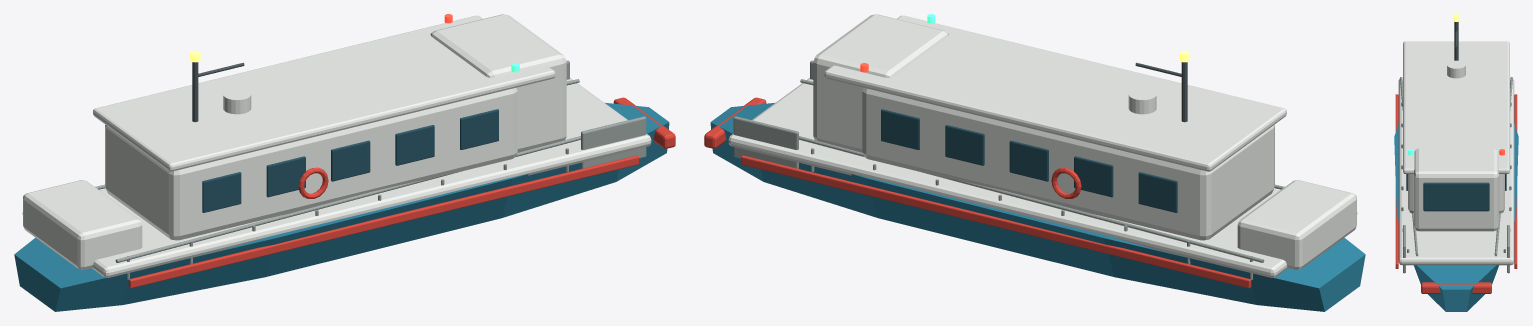
Rendered from transport-passenger-ferry-lod2.glb.
The picture shows the model from 3 angles, left to right: view 1: azimuth 30°, elevation 25°; view 2: azimuth 150°, elevation 25°; view 3: azimuth 270°, elevation 25°; orthographic projection. The views are drawn at different scales.
Visible parts, largest first — view 1: Cabin roof.001, Open passenger cabin.001, Ferry hull.001, Passenger deck.001, Wheelhouse.001, Stern engine casing.001, Hull safety stripe.002, Boarding gate starboard, Passenger deck rail.002, Cabin side window.008, Cabin side window.006, Cabin side window.009 (+5 smaller); view 2: Cabin roof.001, Open passenger cabin.001, Ferry hull.001, Passenger deck.001, Wheelhouse.001, Stern engine casing.001, Hull safety stripe.003, Boarding gate port, Passenger deck rail.003, Cabin side window.013, Cabin side window.011, Cabin side window.014 (+5 smaller); view 3: Cabin roof.001, Passenger deck.001, Wheelhouse.001, Ferry hull.001, Cabin front window.001, Bow bumper.001, Open passenger cabin.001, Hull safety stripe.002, Hull safety stripe.003, Radar dome, Passenger deck rail.002, Passenger deck rail.003 (+3 smaller).
Boxes of the visible parts, x1,y1,x2,y2 form: Cabin roof.001: [93, 15, 555, 171]; Open passenger cabin.001: [105, 88, 517, 240]; Ferry hull.001: [14, 103, 669, 311]; Passenger deck.001: [22, 78, 651, 277]; Wheelhouse.001: [430, 14, 566, 152]; Stern engine casing.001: [23, 180, 142, 269]; Hull safety stripe.002: [128, 155, 638, 288]; Boarding gate starboard: [581, 116, 646, 168]; Passenger deck rail.002: [115, 136, 580, 262]; Cabin side window.008: [331, 140, 370, 181]; Cabin side window.006: [202, 172, 241, 212]; Cabin side window.009: [395, 125, 434, 165]; Cabin roof.001: [824, 15, 1286, 171]; Open passenger cabin.001: [862, 88, 1274, 240]; Ferry hull.001: [710, 103, 1365, 311]; Passenger deck.001: [728, 78, 1357, 277]; Wheelhouse.001: [813, 14, 949, 152]; Stern engine casing.001: [1237, 180, 1356, 269]; Hull safety stripe.003: [741, 155, 1251, 288]; Boarding gate port: [733, 116, 798, 168]; Passenger deck rail.003: [799, 136, 1264, 262]; Cabin side window.013: [1009, 140, 1048, 181]; Cabin side window.011: [1138, 172, 1177, 212]; Cabin side window.014: [945, 125, 984, 165]; Cabin roof.001: [1403, 41, 1509, 173]; Passenger deck.001: [1398, 77, 1514, 265]; Wheelhouse.001: [1414, 148, 1498, 231]; Ferry hull.001: [1394, 124, 1518, 311]; Cabin front window.001: [1423, 182, 1489, 211]; Bow bumper.001: [1421, 282, 1491, 293]; Open passenger cabin.001: [1408, 174, 1504, 213]; Hull safety stripe.002: [1395, 94, 1398, 268]; Hull safety stripe.003: [1514, 94, 1517, 268]; Radar dome: [1447, 60, 1465, 78]; Passenger deck rail.002: [1400, 77, 1418, 256]; Passenger deck rail.003: [1494, 77, 1512, 256].
Bounding box in the file's own units: 19.3 × 6.16 × 4.9.
